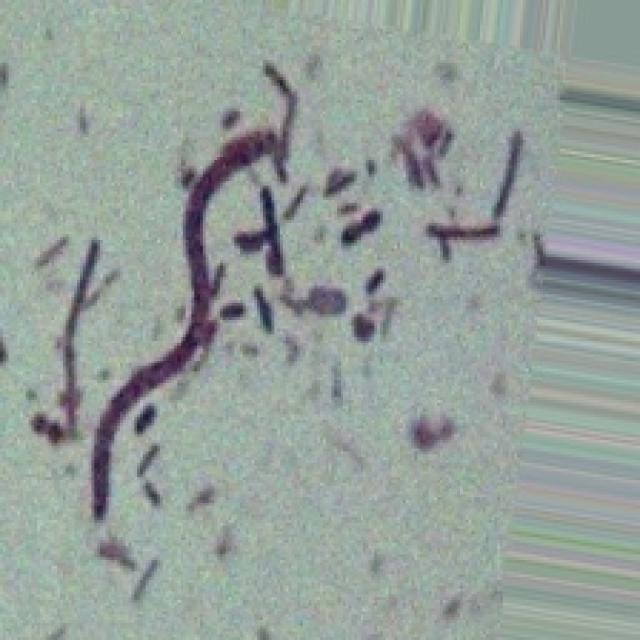Rod_bacteria: (0, 0, 566, 637)
